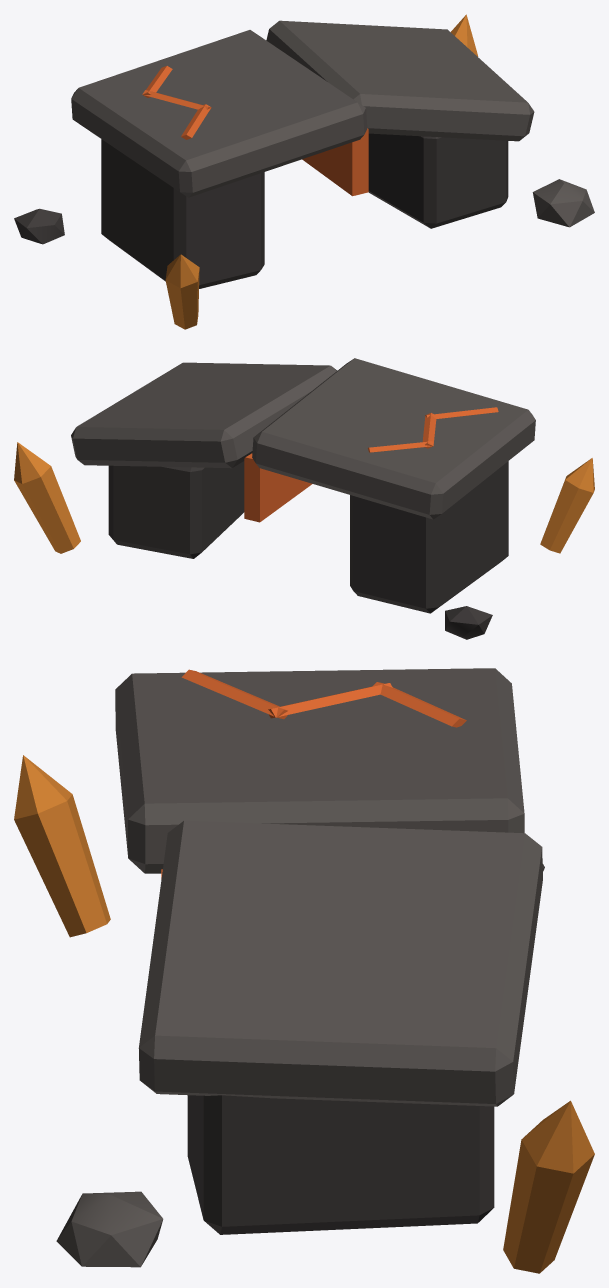
Rendered from heart_altar.fbx.
3 views of the same model, one above another, from view 1: azimuth 30°, elevation 25°; view 2: azimuth 150°, elevation 25°; view 3: azimuth 270°, elevation 25° (orthographic). The views are drawn at different scales.
Parts seen in each view (by area): view 1: heart_altar; view 2: heart_altar; view 3: heart_altar.
Part boxes in pixels (x1,y1,x2,y2): heart_altar: (14, 14, 594, 329); heart_altar: (14, 358, 594, 639); heart_altar: (14, 668, 594, 1273).
Size of the model in its own units: 2.31 by 0.7858 by 1.39.
